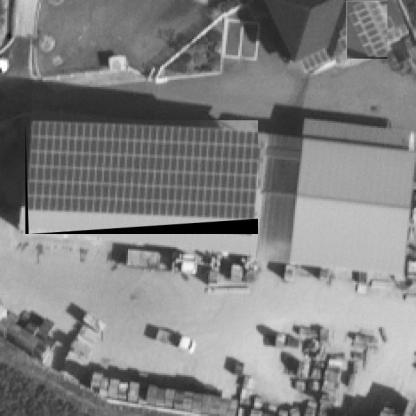solar-pv-panel: (28, 120, 258, 223), (346, 1, 387, 58)
